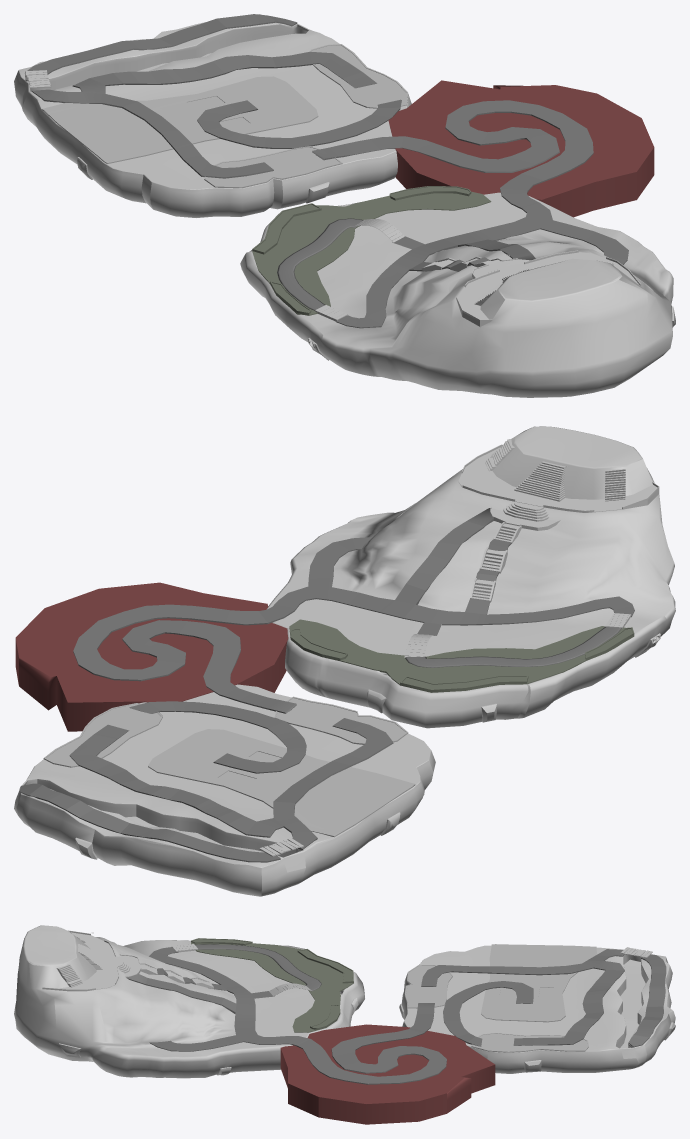
File: MapaBorondo3(Camino+Terreno).fbx
3 views of the same model, one above another, from view 1: azimuth 30°, elevation 25°; view 2: azimuth 150°, elevation 25°; view 3: azimuth 270°, elevation 25° (orthographic). The views are drawn at different scales.
Parts seen in each view (by area): view 1: Terreno, Camino; view 2: Terreno, Camino; view 3: Terreno, Camino.
Boxes of the visible parts, x1,y1,x2,y2 form: Terreno: (14,14,675,397); Camino: (25,14,628,328); Terreno: (14,426,675,896); Camino: (20,508,634,862); Terreno: (14,925,675,1124); Camino: (126,944,666,1084).
Bounding box in the file's own units: 10941 × 2735 × 18587.
